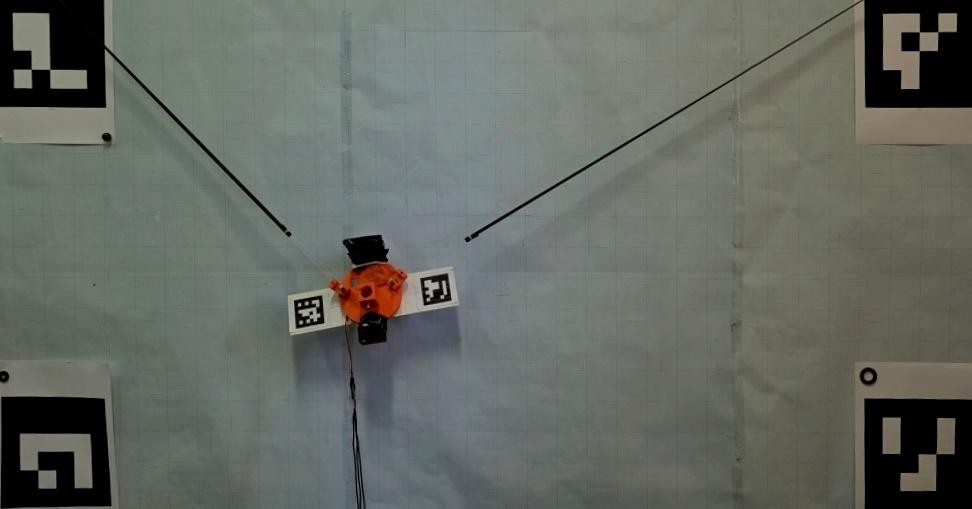robot: (327, 234, 409, 347)
